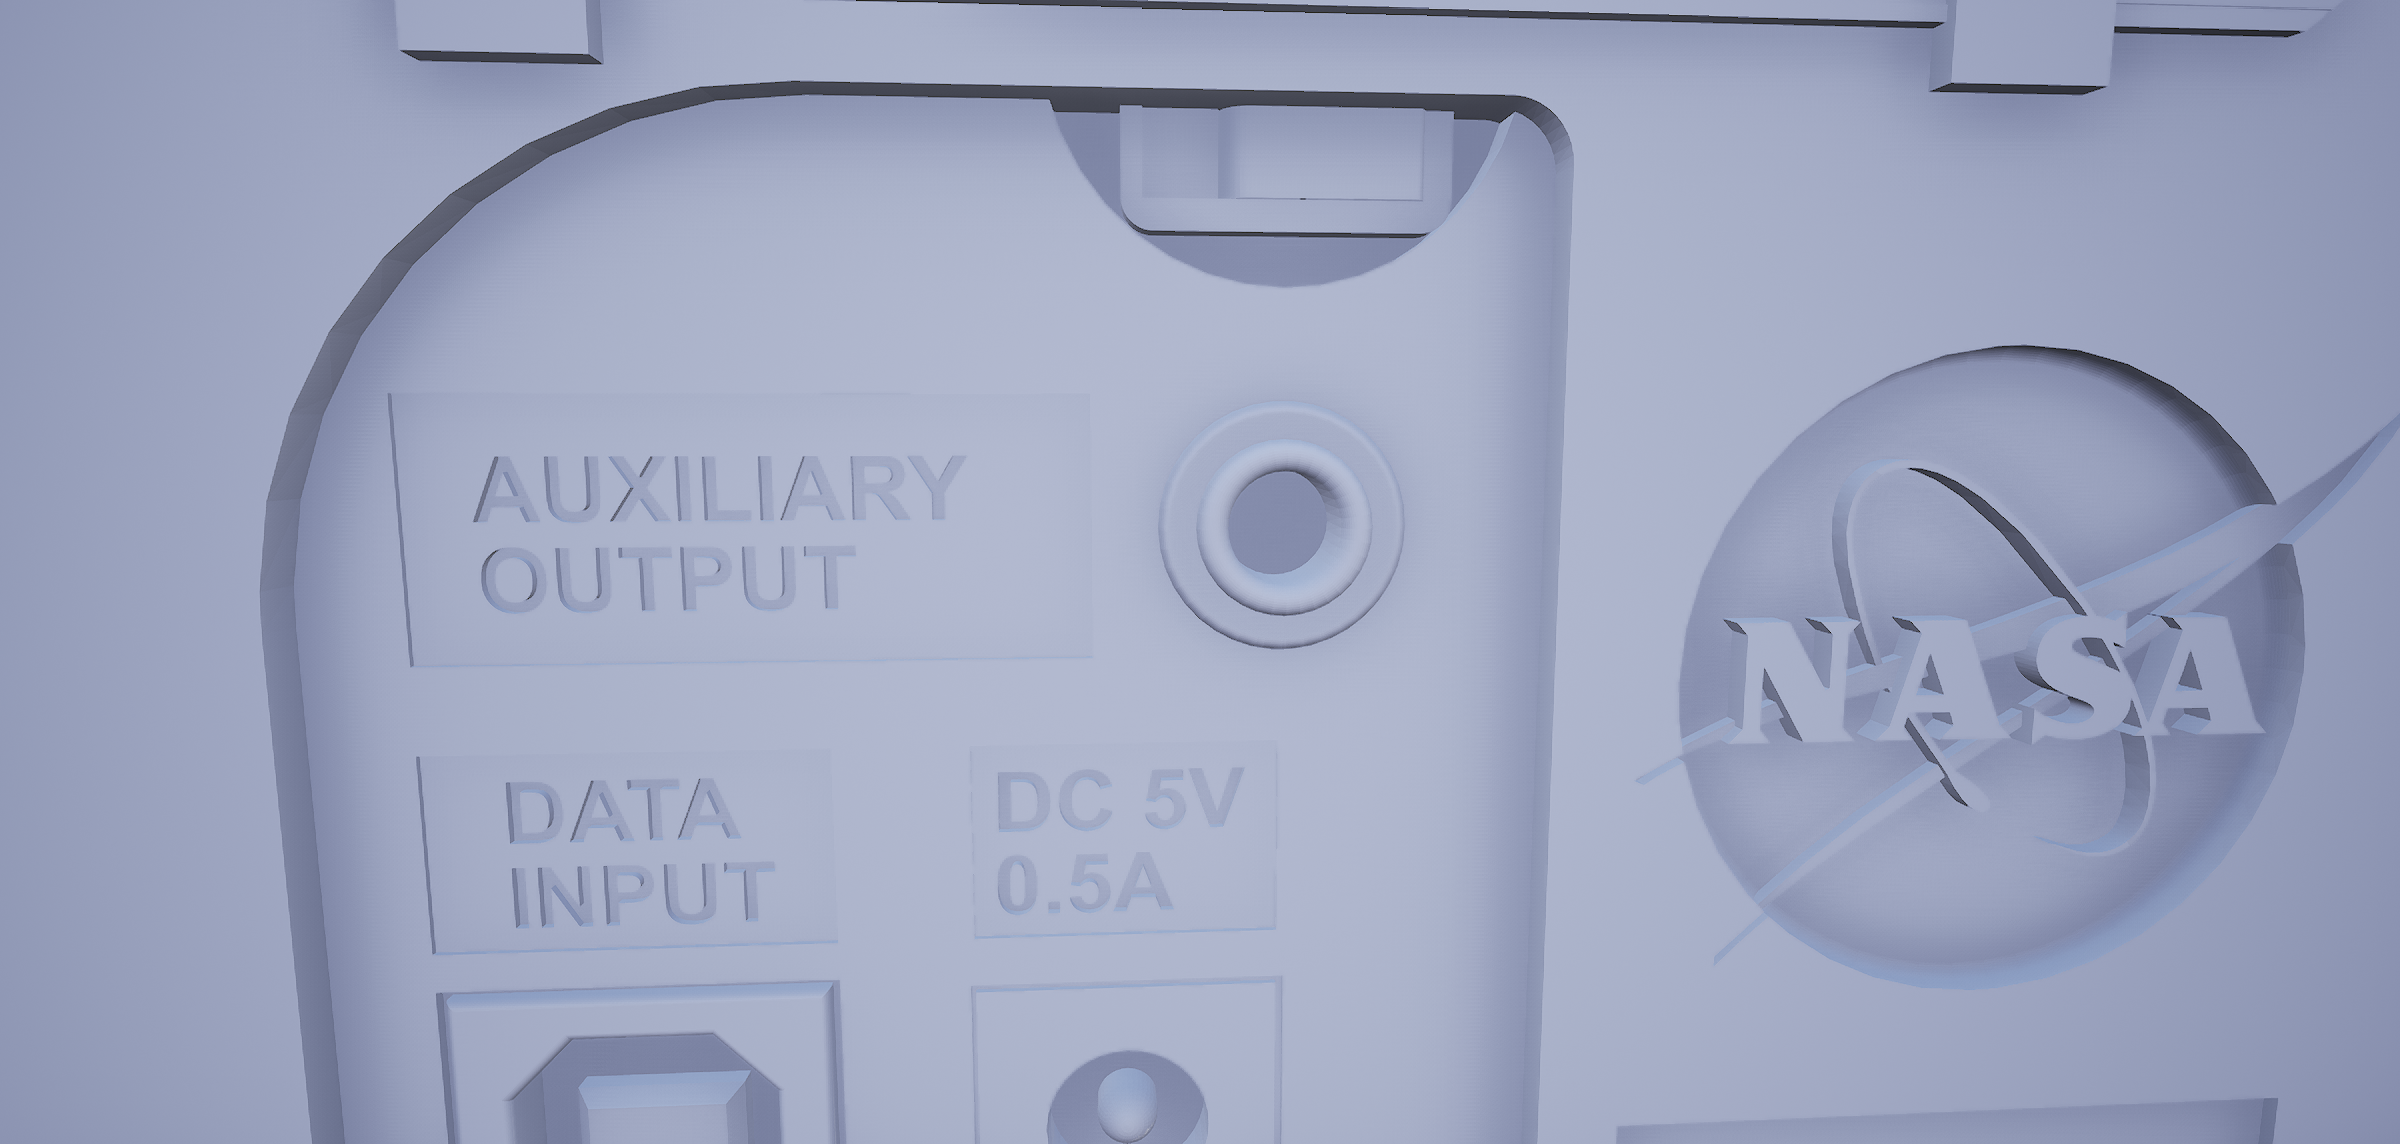aux: (1137, 378, 1439, 669)
dc: (1024, 1038, 1237, 1144)
usb: (490, 1026, 791, 1144)
